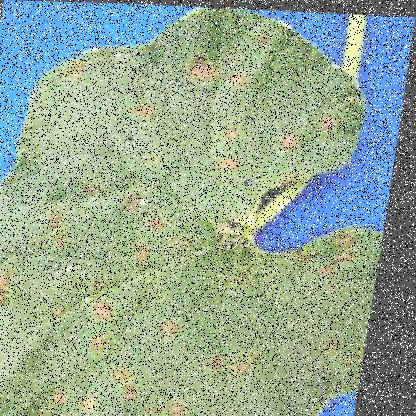AlternariaBrassicicola: (39, 204, 84, 258), (179, 50, 233, 88), (123, 89, 170, 128), (210, 336, 244, 381), (0, 263, 30, 312), (210, 149, 252, 180), (115, 183, 156, 214), (128, 238, 165, 272), (84, 329, 127, 357), (276, 121, 309, 155), (155, 311, 190, 342), (91, 294, 132, 320), (123, 378, 156, 410), (170, 392, 207, 415)
